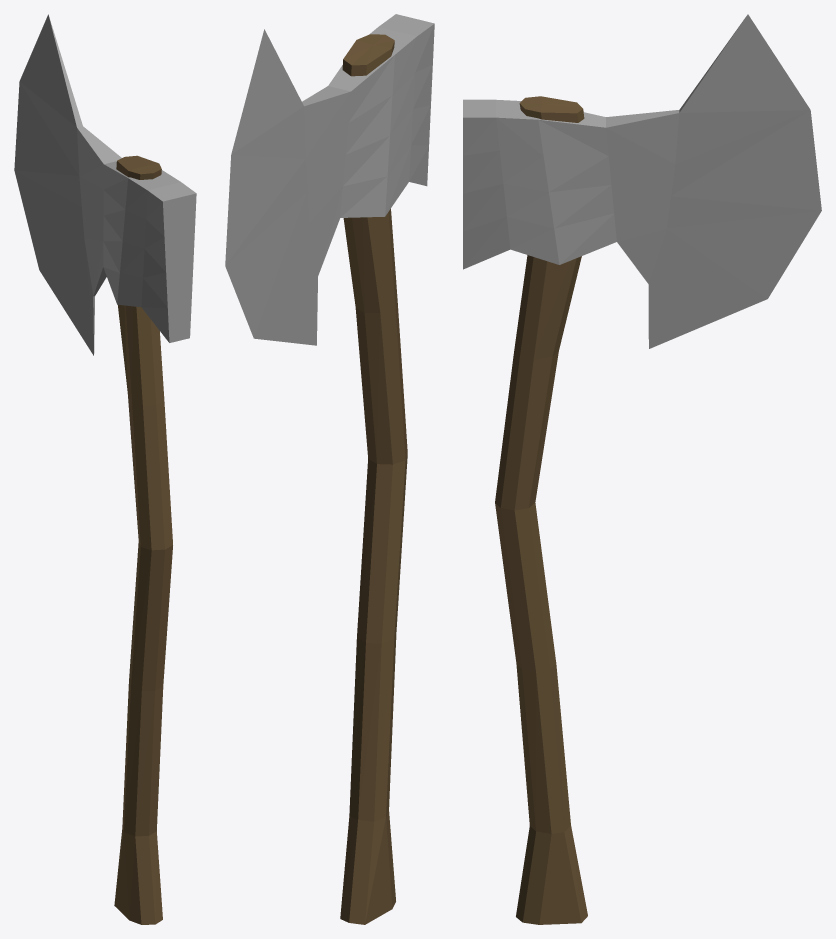
The model's file is axe.fbx.
3 renders of one model, left to right at view 1: azimuth 30°, elevation 25°; view 2: azimuth 150°, elevation 25°; view 3: azimuth 270°, elevation 25°, orthographic. The views are drawn at different scales.
Parts seen in each view (by area): view 1: axe; view 2: axe; view 3: axe.
Boxes of the visible parts, left/top/right/bottom form: axe: left=14, top=14, right=196, bottom=924; axe: left=225, top=14, right=434, bottom=924; axe: left=463, top=14, right=821, bottom=924.
Size of the model in its own units: 0.2044 by 4.49 by 1.62.
